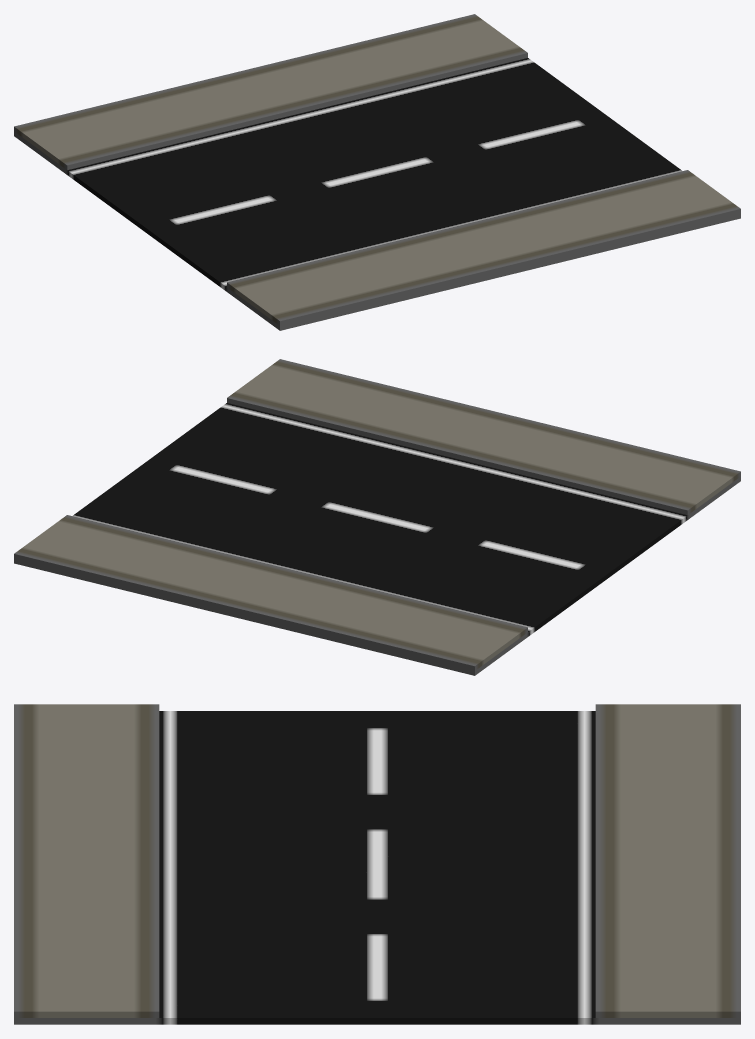
File: Carretera1.fbx
The picture shows the model from 3 angles, top to bottom: view 1: azimuth 30°, elevation 25°; view 2: azimuth 150°, elevation 25°; view 3: azimuth 270°, elevation 25°; orthographic projection. The views are drawn at different scales.
Visible parts, largest first — view 1: Carretera1; view 2: Carretera1; view 3: Carretera1.
Boxes of the visible parts, <box> form: Carretera1: <box>14,14,740,330</box>; Carretera1: <box>14,359,740,675</box>; Carretera1: <box>14,704,740,1024</box>.
Size of the model in its own units: 100 by 2 by 100.
